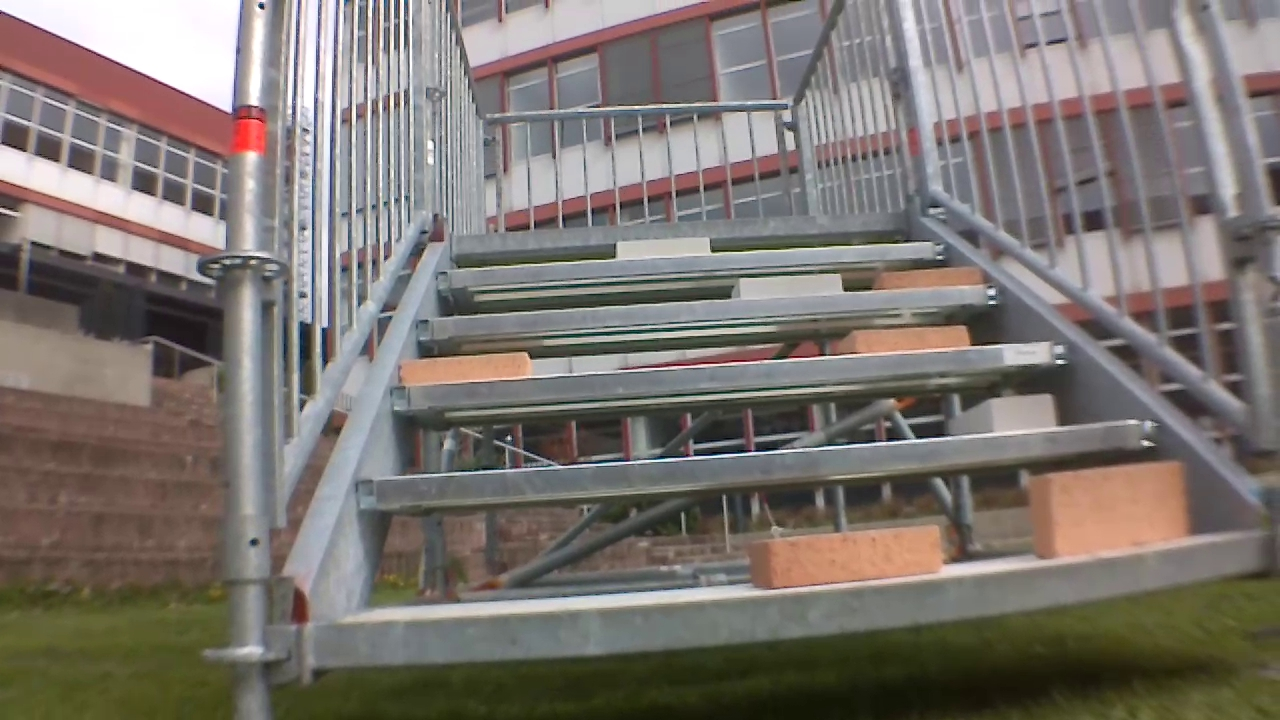brick: (1021, 457, 1201, 557), (749, 525, 942, 592), (391, 347, 537, 385), (950, 394, 1061, 439), (829, 328, 971, 360), (722, 274, 846, 304), (874, 261, 995, 290), (607, 236, 713, 259)
edge: (303, 541, 1275, 690), (355, 426, 1156, 511), (411, 281, 1008, 345), (391, 358, 1066, 410), (435, 238, 949, 289), (451, 208, 907, 256)
stairs: (259, 0, 1280, 708)
steps: (266, 209, 1280, 687)
